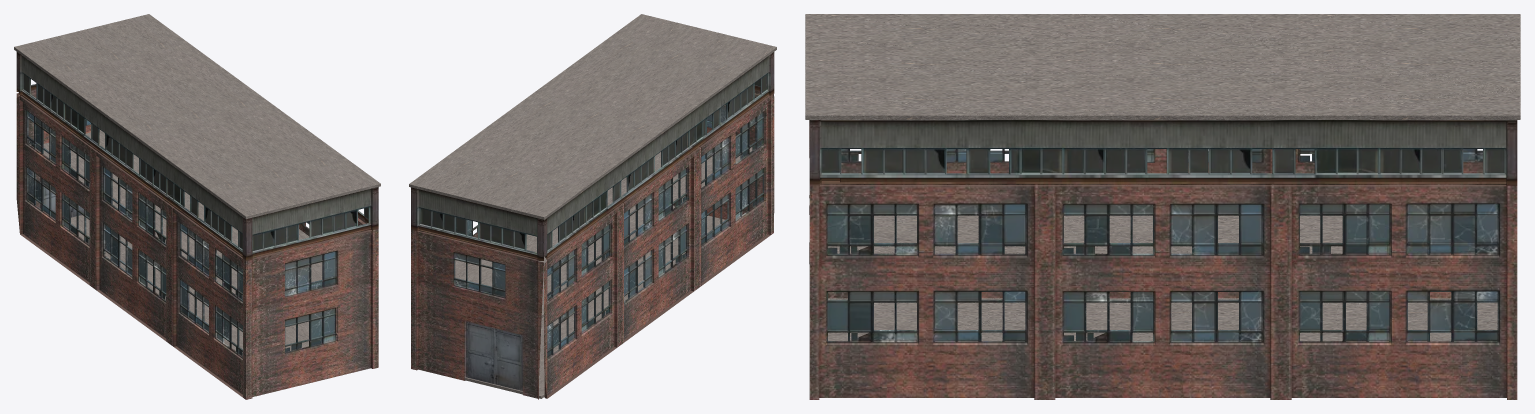
Rendered from warehouse.glb.
3 renders of one model, left to right at view 1: azimuth 30°, elevation 25°; view 2: azimuth 150°, elevation 25°; view 3: azimuth 270°, elevation 25°, orthographic. The views are drawn at different scales.
Visible parts, largest first — view 1: building _building _0, building floor_building floor_0, building windows_building windows_0; view 2: building _building _0, building floor_building floor_0, building windows_building windows_0; view 3: building _building _0, building floor_building floor_0, building windows_building windows_0.
Boxes of the visible parts, x1=… form: building _building _0: x1=16, y1=52, x2=378, y2=399; building floor_building floor_0: x1=14, y1=14, x2=380, y2=355; building windows_building windows_0: x1=23, y1=74, x2=368, y2=356; building _building _0: x1=411, y1=52, x2=774, y2=399; building floor_building floor_0: x1=409, y1=14, x2=776, y2=398; building windows_building windows_0: x1=420, y1=74, x2=766, y2=357; building _building _0: x1=809, y1=120, x2=1517, y2=399; building floor_building floor_0: x1=805, y1=14, x2=1520, y2=340; building windows_building windows_0: x1=821, y1=149, x2=1504, y2=340.
Size of the model in its own units: 1161 by 1517 by 3451.
3 materials, 3 textured.
